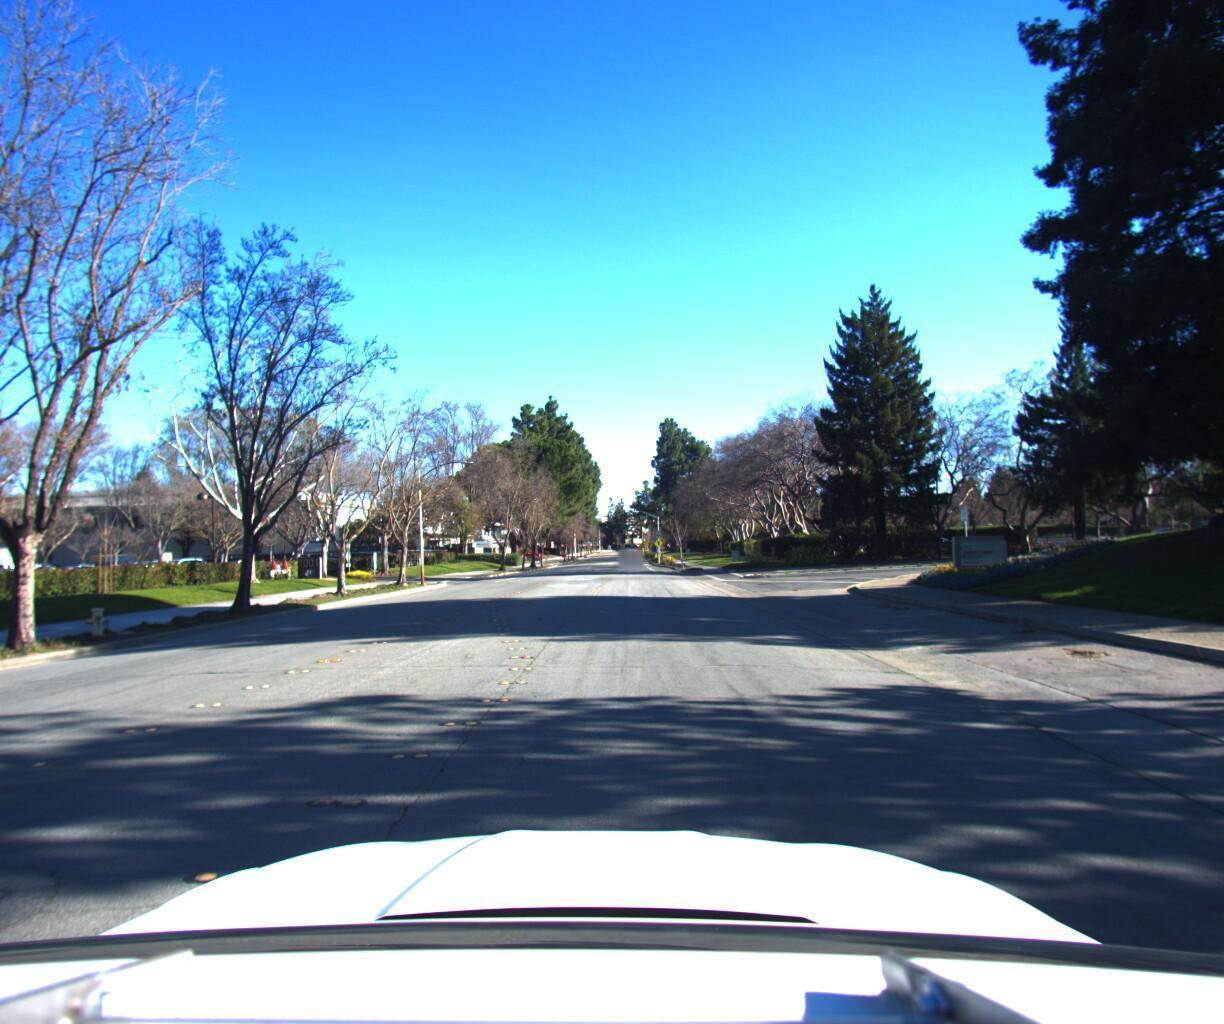car: (618, 540, 639, 559)
